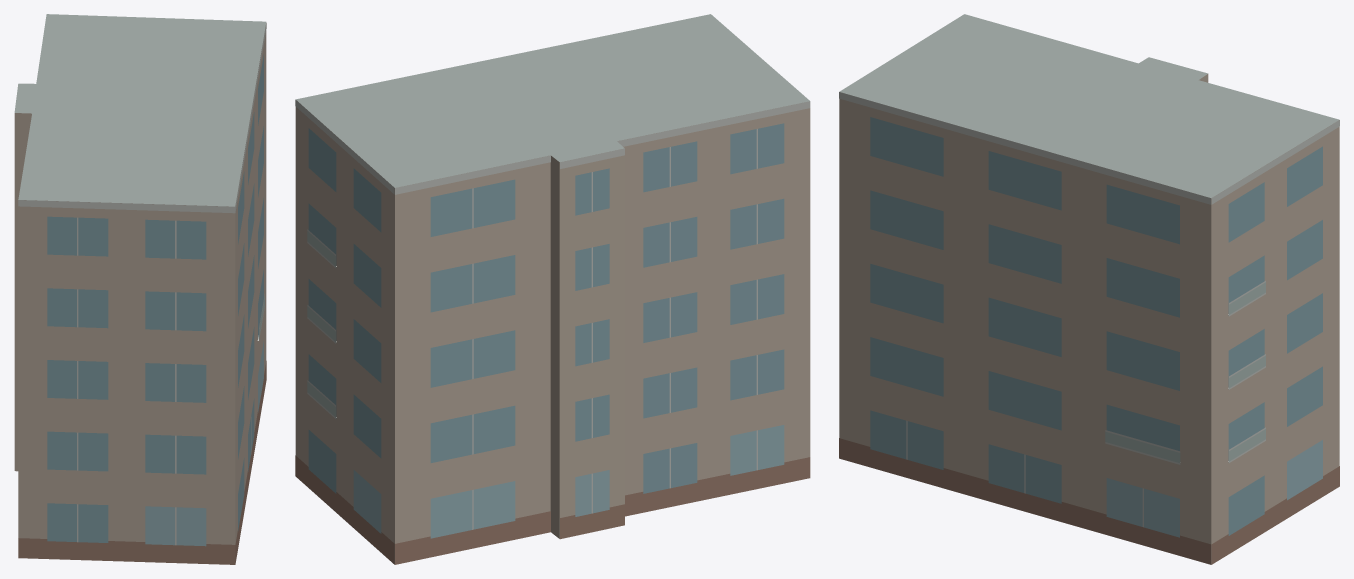
The model's file is survey-upis-32905766.glb.
3 renders of one model, left to right at view 1: azimuth 30°, elevation 25°; view 2: azimuth 150°, elevation 25°; view 3: azimuth 270°, elevation 25°, orthographic. The views are drawn at different scales.
Visible parts, largest first — view 1: survey-upis-32905766.tmp; view 2: survey-upis-32905766.tmp; view 3: survey-upis-32905766.tmp.
Part boxes in pixels (left/top/right/bottom): survey-upis-32905766.tmp: left=14, top=14, right=266, bottom=564; survey-upis-32905766.tmp: left=295, top=14, right=810, bottom=564; survey-upis-32905766.tmp: left=839, top=14, right=1339, bottom=564.
Bounding box in the file's own units: 14.34 × 13.3 × 16.47.
